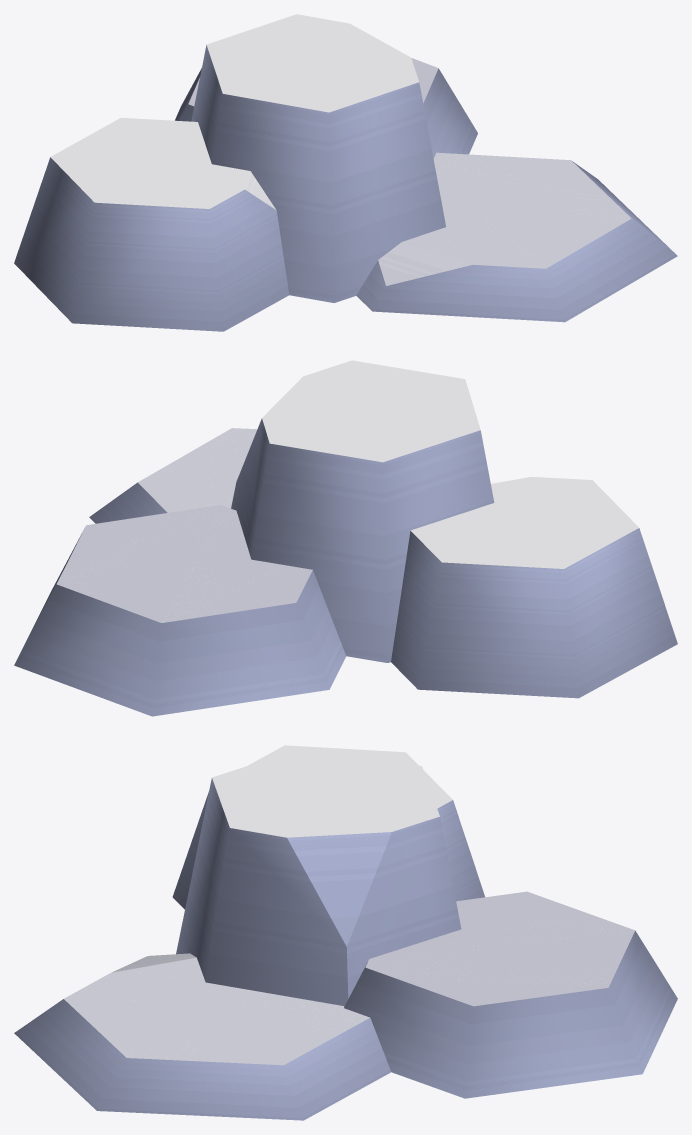
The model's file is tower-defense-kit--snow-detail-rocks.glb.
3 views of the same model, one above another, from view 1: azimuth 30°, elevation 25°; view 2: azimuth 150°, elevation 25°; view 3: azimuth 270°, elevation 25° (orthographic). The views are drawn at different scales.
Parts seen in each view (by area): view 1: snow-detail-rocks; view 2: snow-detail-rocks; view 3: snow-detail-rocks.
Part boxes in pixels (x1,y1,x2,y2): snow-detail-rocks: (14, 14, 677, 331); snow-detail-rocks: (14, 360, 677, 716); snow-detail-rocks: (14, 745, 677, 1120).
Bounding box in the file's own units: 0.5975 × 0.1845 × 0.6055.
Materials: 1 (1 with a texture image).
